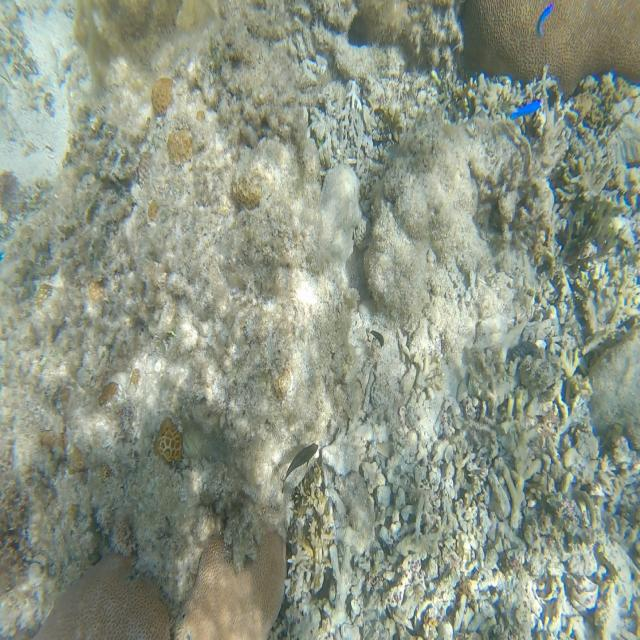kurohagi: (285, 443, 318, 478)
rurisuzumedai: (510, 100, 540, 119), (538, 3, 553, 36)
